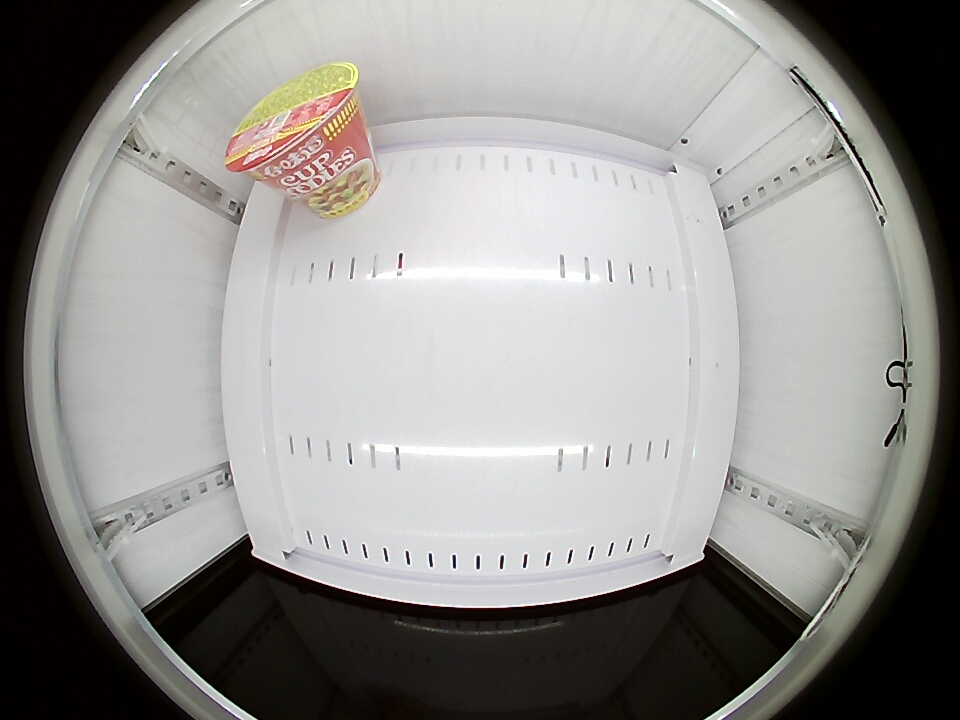heweidao3: (225, 63, 362, 184)
